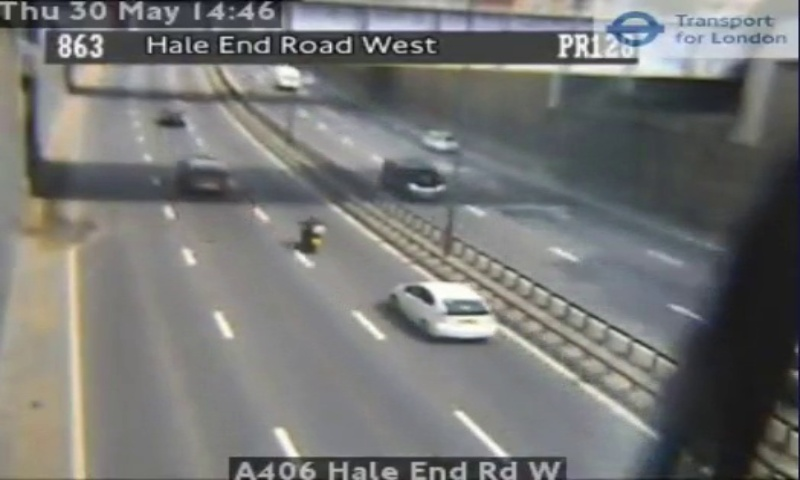car: (390, 282, 496, 338)
motorcycle: (297, 213, 326, 253)
